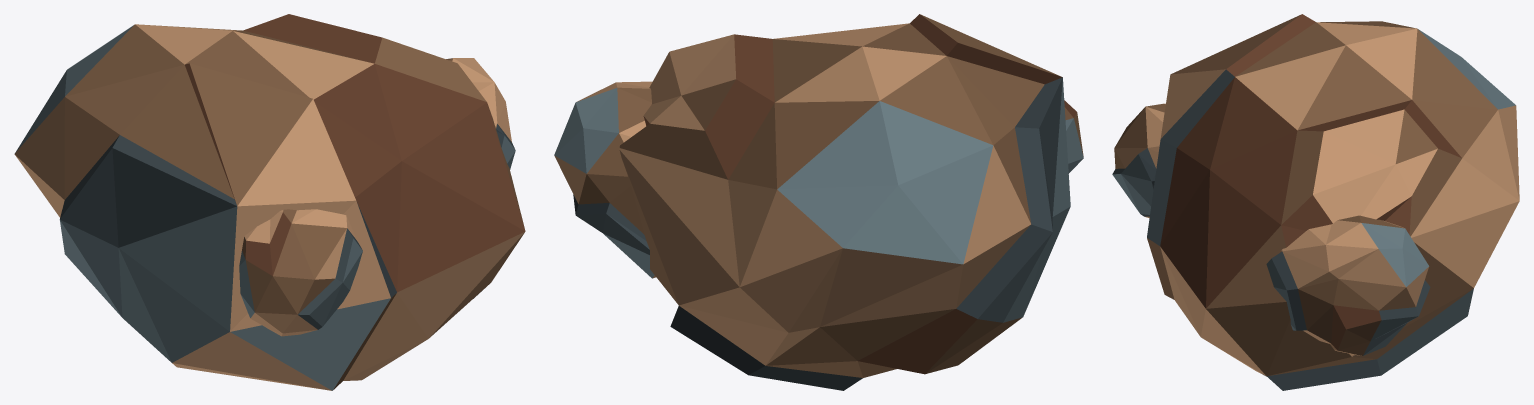
The model's file is Asteroid1.fbx.
3 renders of one model, left to right at view 1: azimuth 30°, elevation 25°; view 2: azimuth 150°, elevation 25°; view 3: azimuth 270°, elevation 25°, orthographic. The views are drawn at different scales.
Parts seen in each view (by area): view 1: Asteroid1; view 2: Asteroid1; view 3: Asteroid1.
Boxes of the visible parts, left/top/right/bottom form: Asteroid1: left=14, top=14, right=525, bottom=390; Asteroid1: left=554, top=14, right=1083, bottom=390; Asteroid1: left=1112, top=14, right=1519, bottom=390.
Size of the model in its own units: 1056 by 765 by 951.
